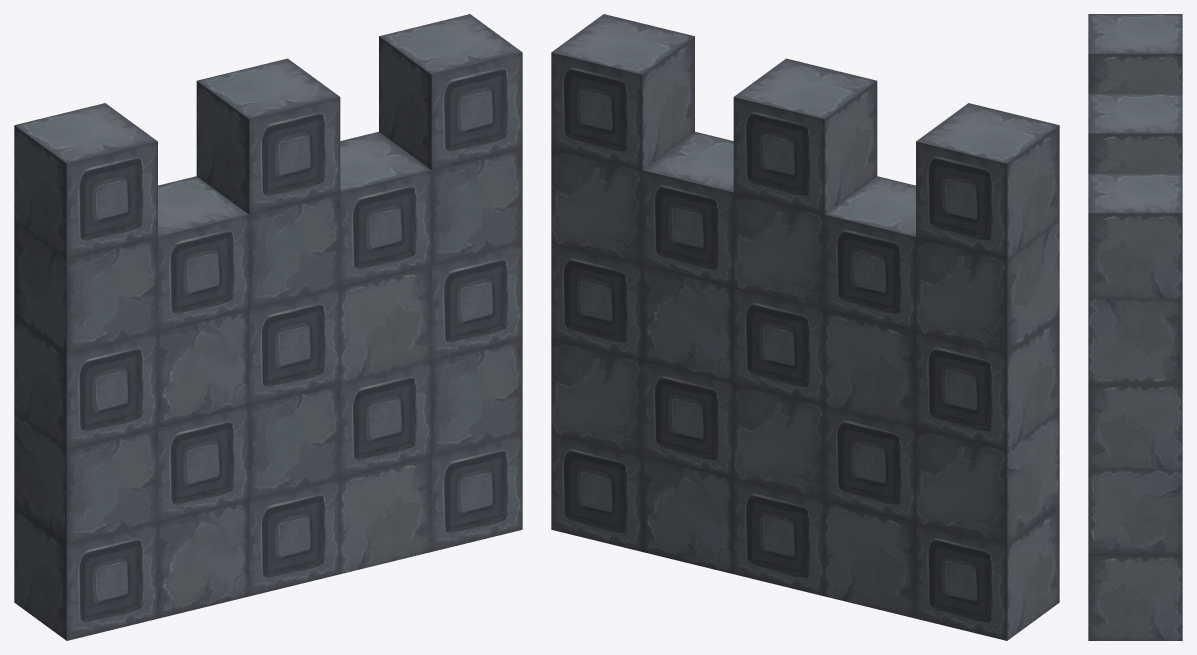
Rendered from Castle Deco 14.fbx.
3 views of the same model, side by side, from view 1: azimuth 30°, elevation 25°; view 2: azimuth 150°, elevation 25°; view 3: azimuth 270°, elevation 25° (orthographic). The views are drawn at different scales.
Visible parts, largest first — view 1: Castle Deco 14; view 2: Castle Deco 14; view 3: Castle Deco 14.
Part boxes in pixels (x1,y1,x2,y2): Castle Deco 14: (14, 14, 522, 640); Castle Deco 14: (551, 14, 1059, 640); Castle Deco 14: (1088, 14, 1182, 640).
Bounding box in the file's own units: 3.75 × 3.75 × 0.75.
